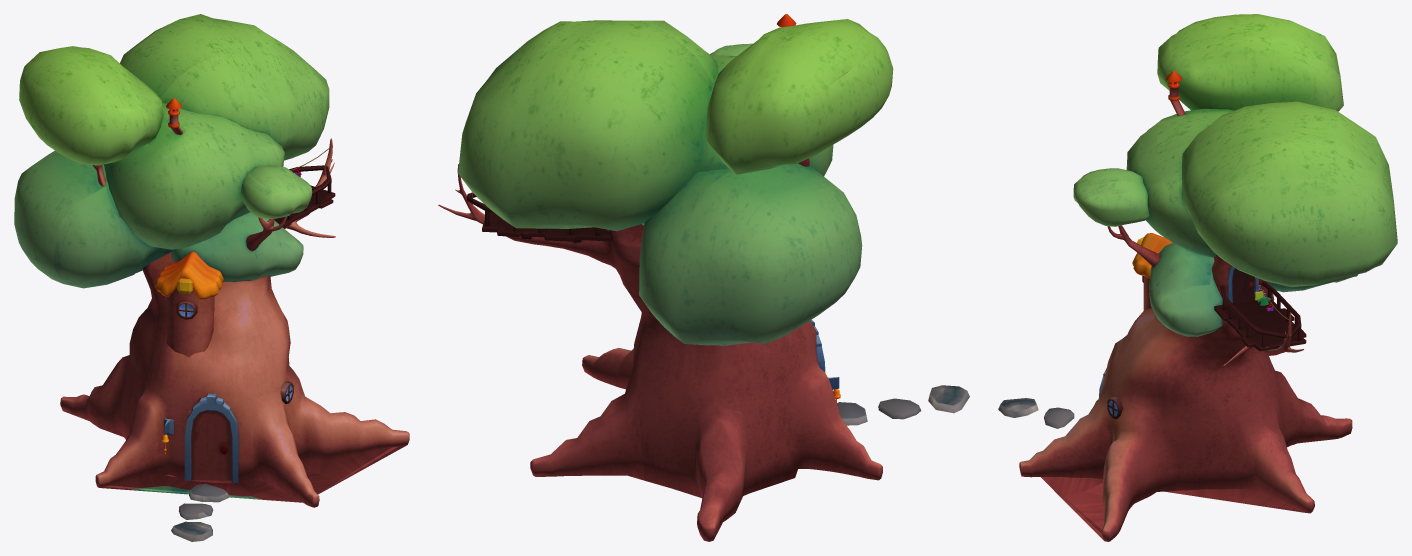
The model's file is kamp_evv.fbx.
3 renders of one model, left to right at view 1: azimuth 30°, elevation 25°; view 2: azimuth 150°, elevation 25°; view 3: azimuth 270°, elevation 25°, orthographic. The views are drawn at different scales.
Parts seen in each view (by area): view 1: Dioramaprimero, Dioramaprimero.001; view 2: Dioramaprimero; view 3: Dioramaprimero.
Boxes of the visible parts, <box> form: Dioramaprimero: <box>14,14,409,541</box>; Dioramaprimero.001: <box>191,410,231,480</box>; Dioramaprimero: <box>438,14,969,541</box>; Dioramaprimero: <box>998,14,1397,541</box>.
Bounding box in the file's own units: 1782 × 2059 × 1866.
1 material, 1 textured.
